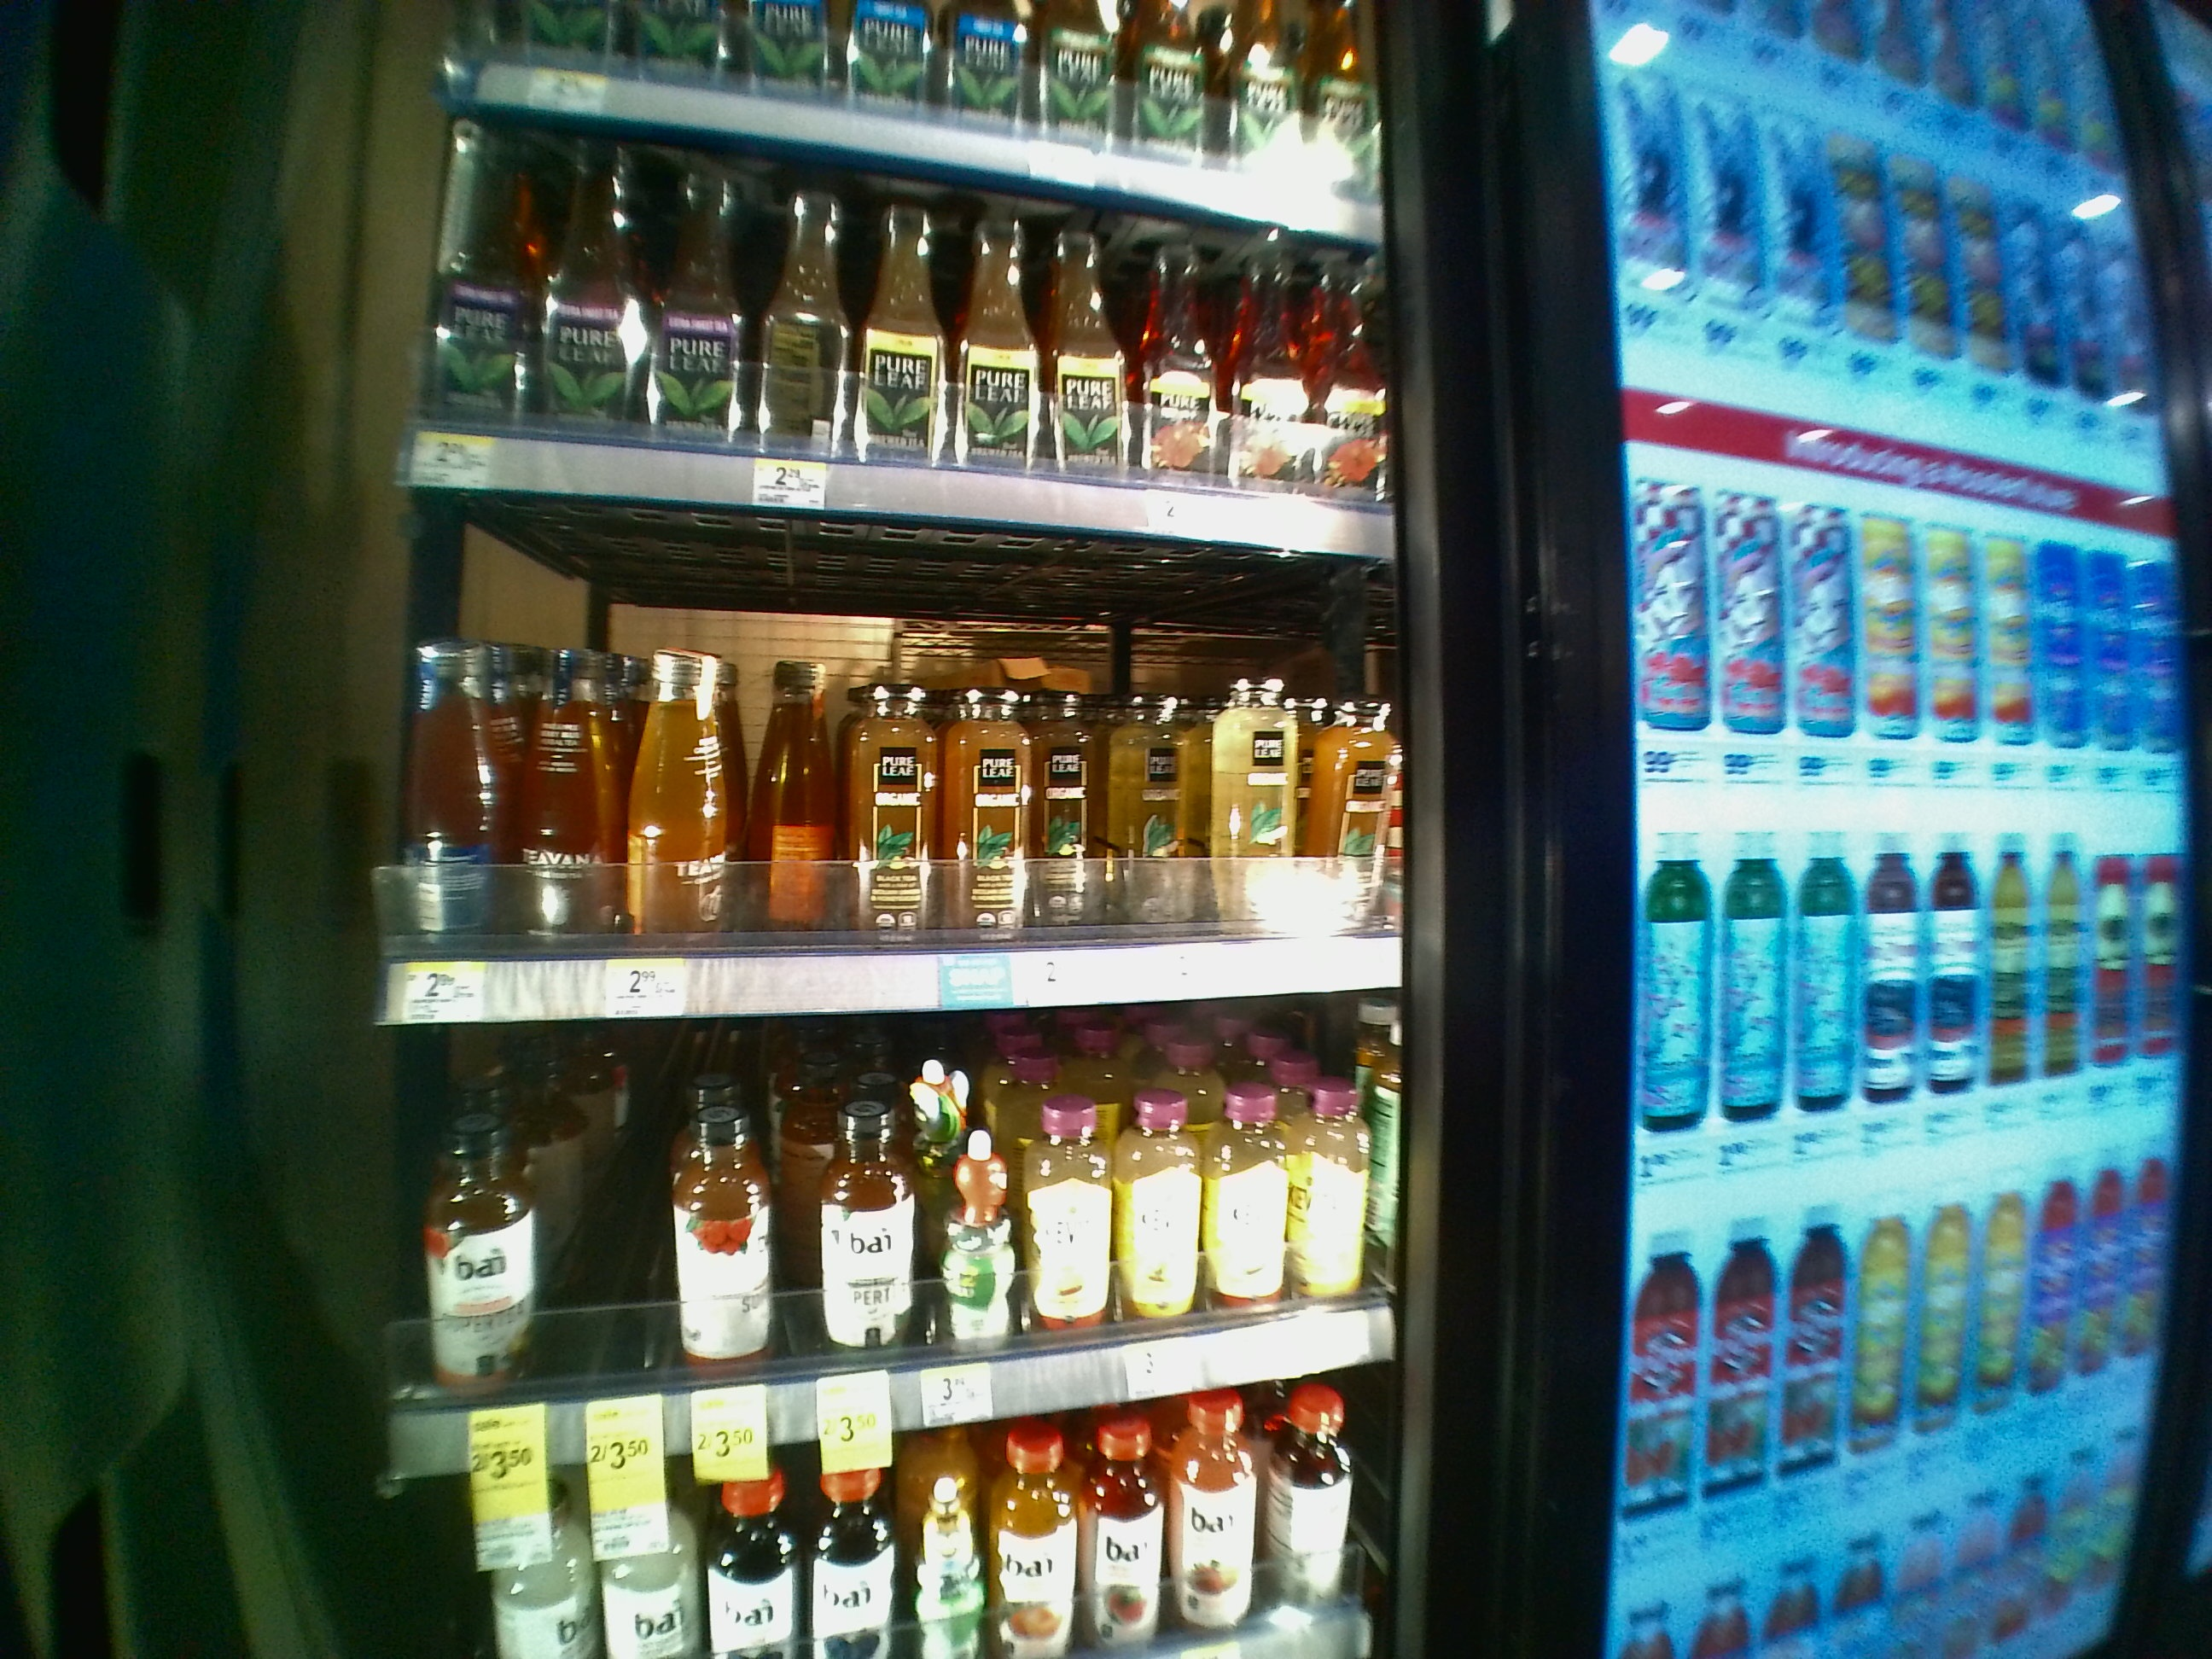shelf: (376, 493, 1406, 1025), (387, 1044, 1411, 1481)
